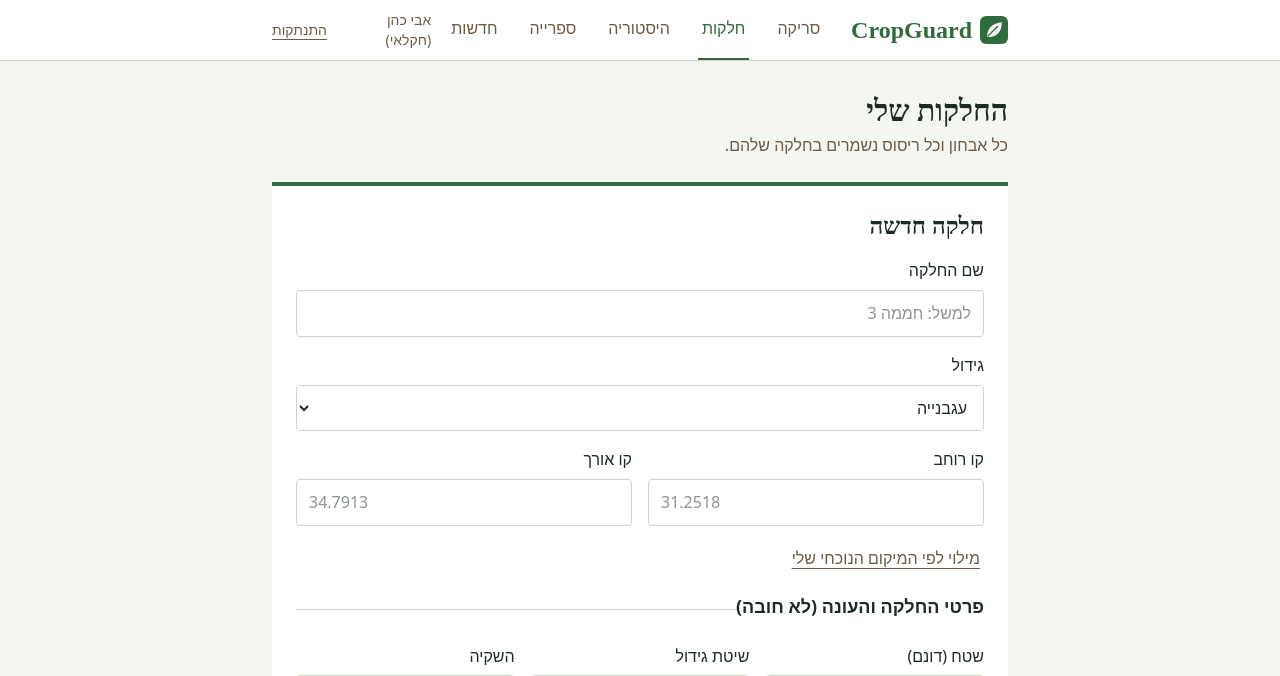
it: library page › is reachable from the navigation
This screenshot has width=1280, height=676.
Click the link "ספרייה" at (553, 28), box [530,17,576,39]
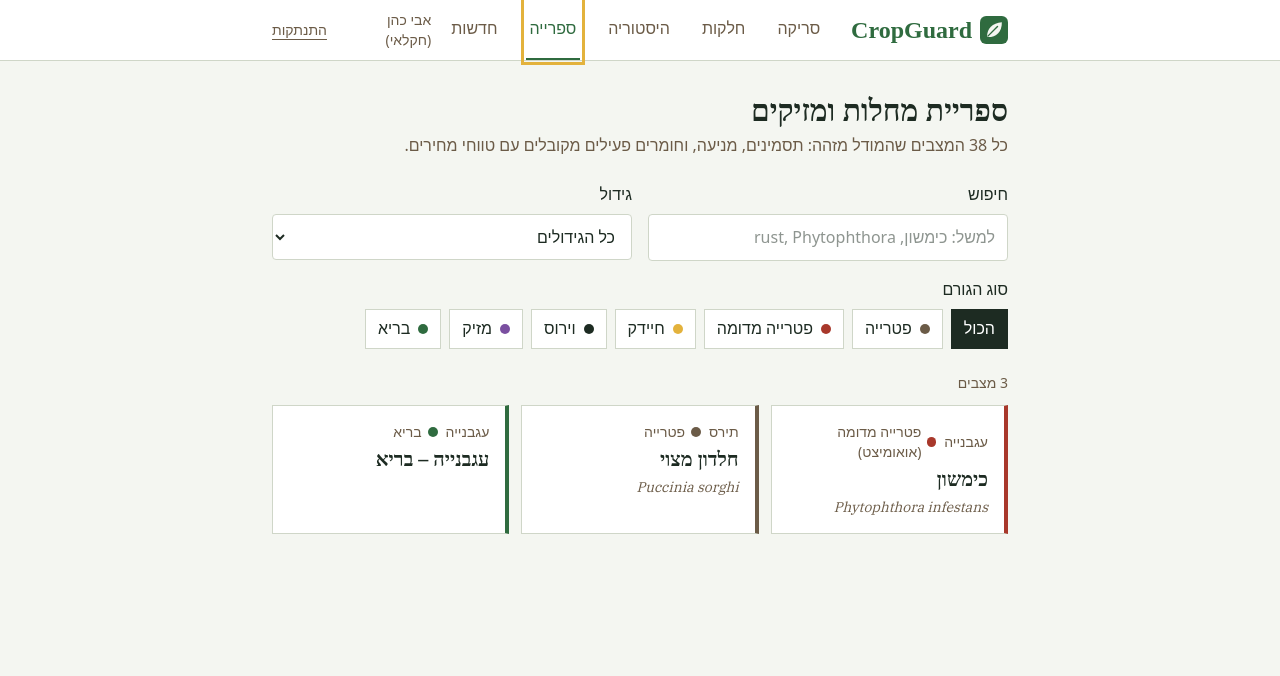
expect the heading "ספריית מחלות ומזיקים" is shown: met, box [751,94,1008,127]
